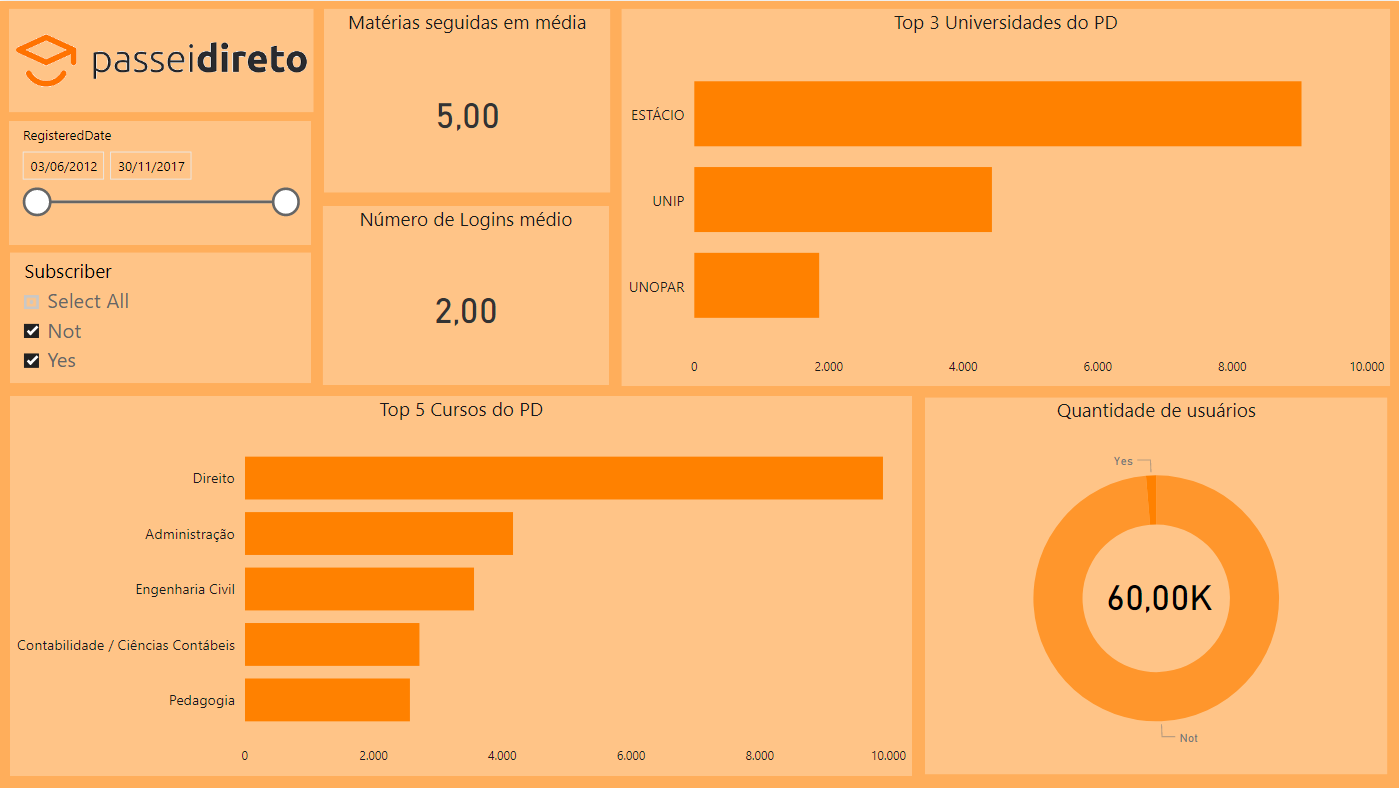

The page's visual inventory and layout, read from the dashboard file:
{"tool":"powerbi","page":{"name":"Page 1","canvas":[1280,720],"ordinal":0},"visuals":[{"type":"image","box":[7.8,6.9,279.3,94.9],"z":1},{"type":"barChart","title":"Top 3 Universidades do PD","fields":{"Category":["base_de_dados.NameUniversity"],"Y":["CountNonNull(base_de_dados.IdStudent)"]},"box":[568.4,6.9,703.8,345.6],"z":2},{"type":"barChart","title":"Top 5 Cursos do PD","fields":{"Category":["base_de_dados.NameCourse"],"Y":["CountNonNull(base_de_dados.IdStudent)"]},"box":[9.2,361.5,825.9,347.7],"z":2},{"type":"card","title":"Matérias seguidas em média","fields":{"Values":["Median(base_de_dados.Follows)"]},"box":[296.1,7.2,262.3,168.7],"z":4},{"type":"card","title":"Número de Logins médio","fields":{"Values":["Median(base_de_dados.Logins)"]},"box":[294.7,187.2,262.3,164.1],"z":5},{"type":"slicer","fields":{"Values":["base_de_dados.Subscriber"]},"box":[9.2,229.9,275.7,120.1],"z":6},{"type":"donutChart","title":"Quantidade de usuários","fields":{"Series":["base_de_dados.Subscriber"],"Y":["CountNonNull(base_de_dados.IdStudent)"]},"box":[846.2,362.6,423.5,345.5],"z":7},{"type":"card","fields":{"Values":["CountNonNull(base_de_dados.IdStudent)"]},"box":[986,478.1,149.8,131.5],"z":8},{"type":"slicer","fields":{"Values":["base_de_dados.RegisteredDate"]},"box":[7.8,109.8,277,113.2],"z":9}]}

Visuals, with their boxes in screenshot pixels (x1, y1, x2, y2), scaled from the page's 1280x720 canvas onto the 1399x788 screenshot:
image: 9/8/314/111
"Top 3 Universidades do PD" barChart: 621/8/1390/386
"Top 5 Cursos do PD" barChart: 10/396/913/776
"Matérias seguidas em média" card: 324/8/610/193
"Número de Logins médio" card: 322/205/609/384
slicer - base_de_dados.Subscriber: 10/252/311/383
"Quantidade de usuários" donutChart: 925/397/1388/775
card - CountNonNull(base_de_dados.IdStudent): 1078/523/1241/667
slicer - base_de_dados.RegisteredDate: 9/120/311/244
